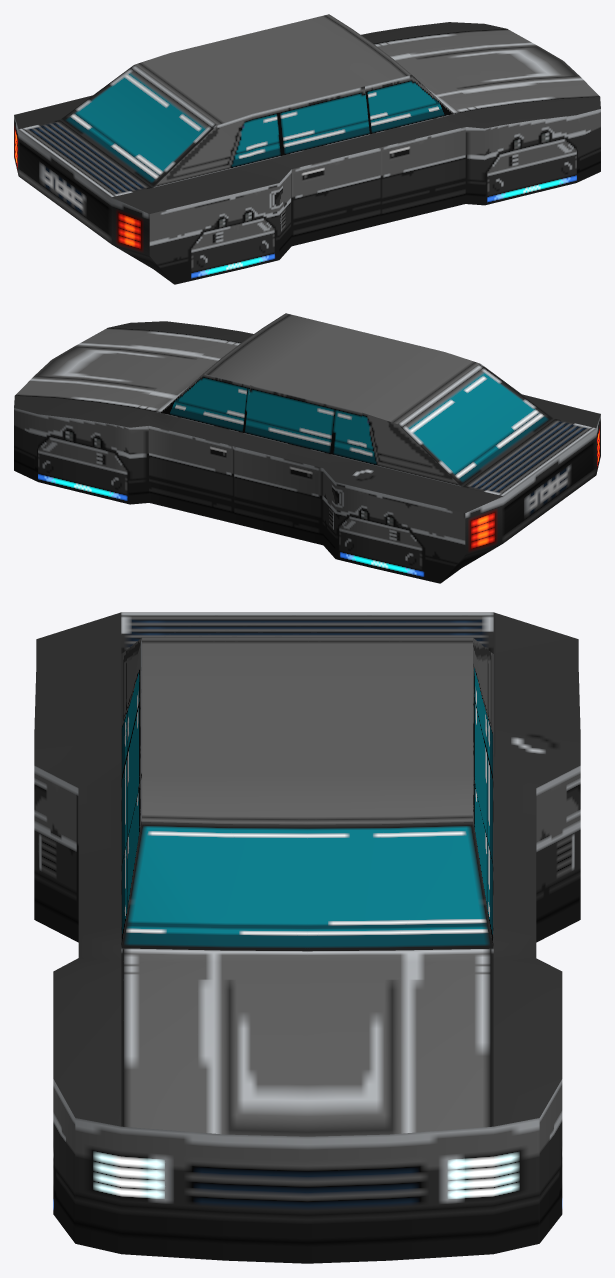
The model's file is sedan.FBX.
The picture shows the model from 3 angles, top to bottom: view 1: azimuth 30°, elevation 25°; view 2: azimuth 150°, elevation 25°; view 3: azimuth 270°, elevation 25°; orthographic projection. The views are drawn at different scales.
Visible parts, largest first — view 1: sedan; view 2: sedan; view 3: sedan.
Part boxes in pixels (<box>): sedan: <box>14,14,600,284</box>; sedan: <box>14,313,600,583</box>; sedan: <box>34,612,580,1263</box>.
Bounding box in the file's own units: 61.29 × 14.9 × 29.09.
1 material, 1 textured.
